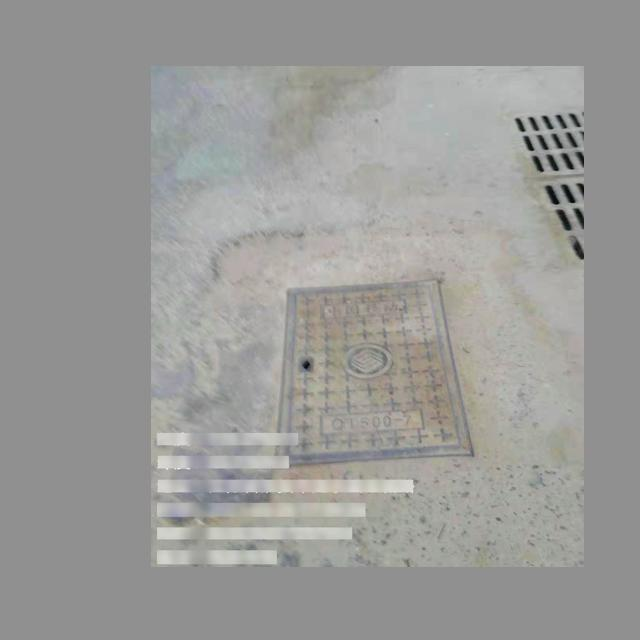good: (258, 278, 472, 464)
